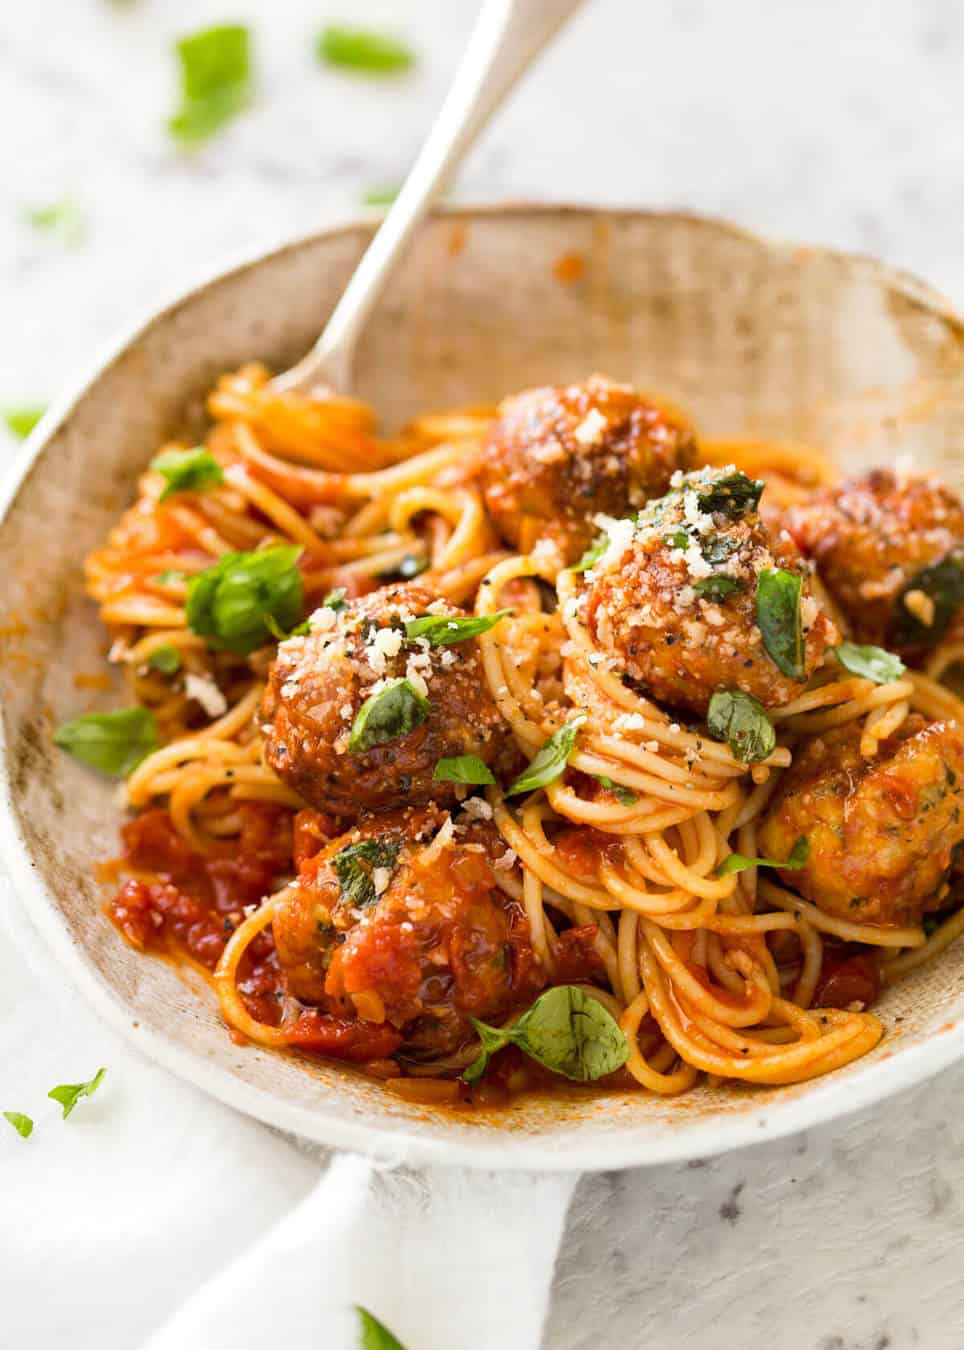meatballs: (297, 813, 511, 1016), (286, 603, 499, 793), (779, 718, 964, 911), (596, 509, 791, 685), (502, 386, 693, 537)
plain spaghetti: (530, 657, 771, 1078), (131, 381, 496, 601), (123, 608, 284, 994)
